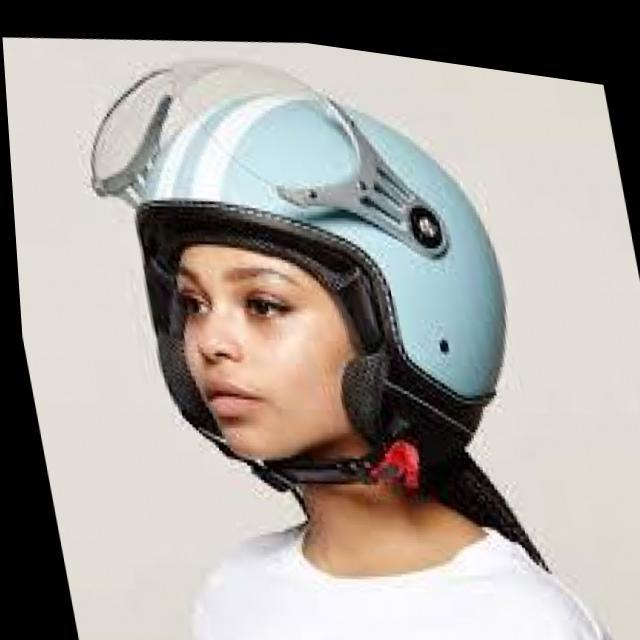Helmet: (80, 46, 518, 496)
